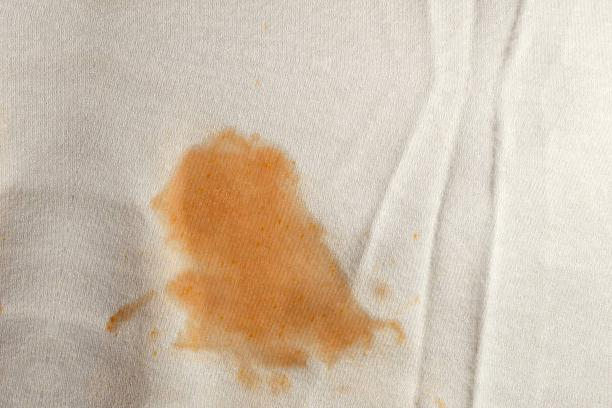stain: (149, 110, 417, 398), (103, 286, 160, 343)
